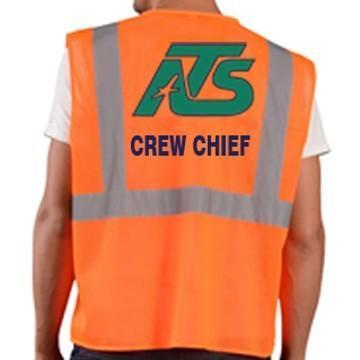vest: (62, 7, 318, 358)
